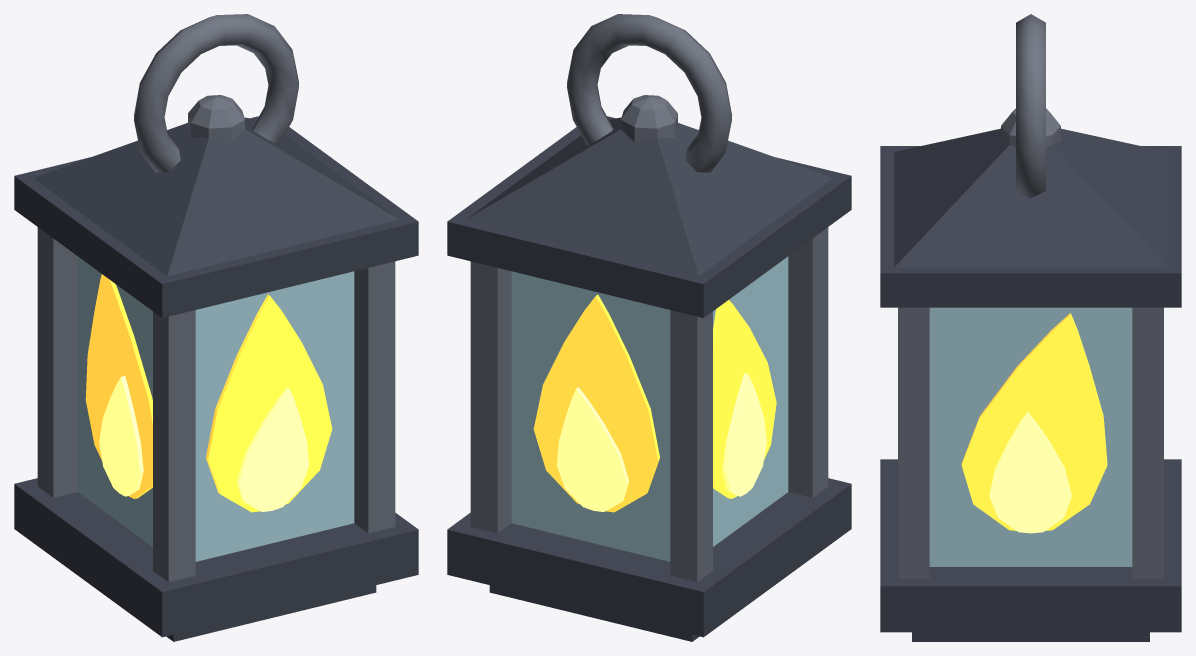
The model's file is lantern-pixor.glb.
3 views of the same model, side by side, from view 1: azimuth 30°, elevation 25°; view 2: azimuth 150°, elevation 25°; view 3: azimuth 270°, elevation 25° (orthographic).
Parts seen in each view (by area): view 1: Lantern roof, Lantern posts, Lantern glass, Lantern base, Lantern flame, Lantern ring, Lantern flame core, Lantern knob; view 2: Lantern roof, Lantern posts, Lantern glass, Lantern base, Lantern flame, Lantern ring, Lantern flame core, Lantern knob; view 3: Lantern roof, Lantern glass, Lantern base, Lantern posts, Lantern flame, Lantern flame core, Lantern ring, Lantern knob.
Part boxes in pixels (x1=…): Lantern roof: x1=14, y1=116, x2=418, y2=317; Lantern posts: x1=37, y1=227, x2=395, y2=582; Lantern glass: x1=77, y1=256, x2=354, y2=561; Lantern base: x1=14, y1=478, x2=418, y2=641; Lantern flame: x1=85, y1=274, x2=332, y2=512; Lantern ring: x1=134, y1=14, x2=298, y2=172; Lantern flame core: x1=99, y1=376, x2=309, y2=511; Lantern knob: x1=188, y1=95, x2=244, y2=142; Lantern roof: x1=447, y1=116, x2=851, y2=317; Lantern posts: x1=470, y1=227, x2=828, y2=582; Lantern glass: x1=511, y1=256, x2=788, y2=561; Lantern base: x1=447, y1=478, x2=851, y2=641; Lantern flame: x1=533, y1=294, x2=776, y2=512; Lantern ring: x1=567, y1=14, x2=731, y2=172; Lantern flame core: x1=556, y1=373, x2=766, y2=511; Lantern knob: x1=621, y1=95, x2=677, y2=142; Lantern roof: x1=880, y1=128, x2=1181, y2=307; Lantern glass: x1=929, y1=307, x2=1132, y2=566; Lantern base: x1=880, y1=459, x2=1181, y2=641; Lantern posts: x1=898, y1=307, x2=1163, y2=578; Lantern flame: x1=961, y1=313, x2=1107, y2=530; Lantern flame core: x1=989, y1=412, x2=1071, y2=533; Lantern ring: x1=1016, y1=14, x2=1045, y2=197; Lantern knob: x1=1001, y1=108, x2=1060, y2=147.
Bounding box in the file's own units: 0.19 × 0.396 × 0.19.
